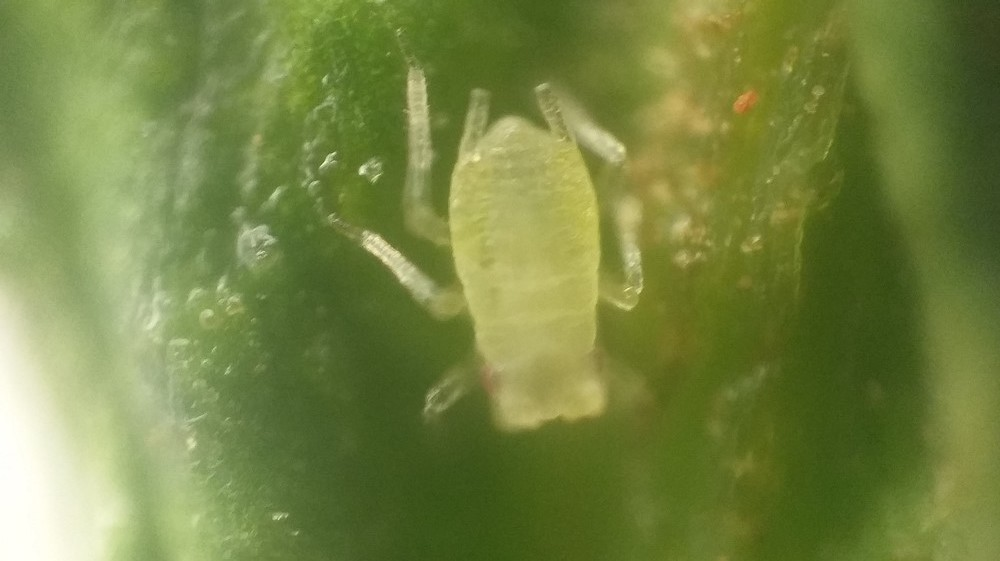Pulgon: (321, 30, 697, 450)
